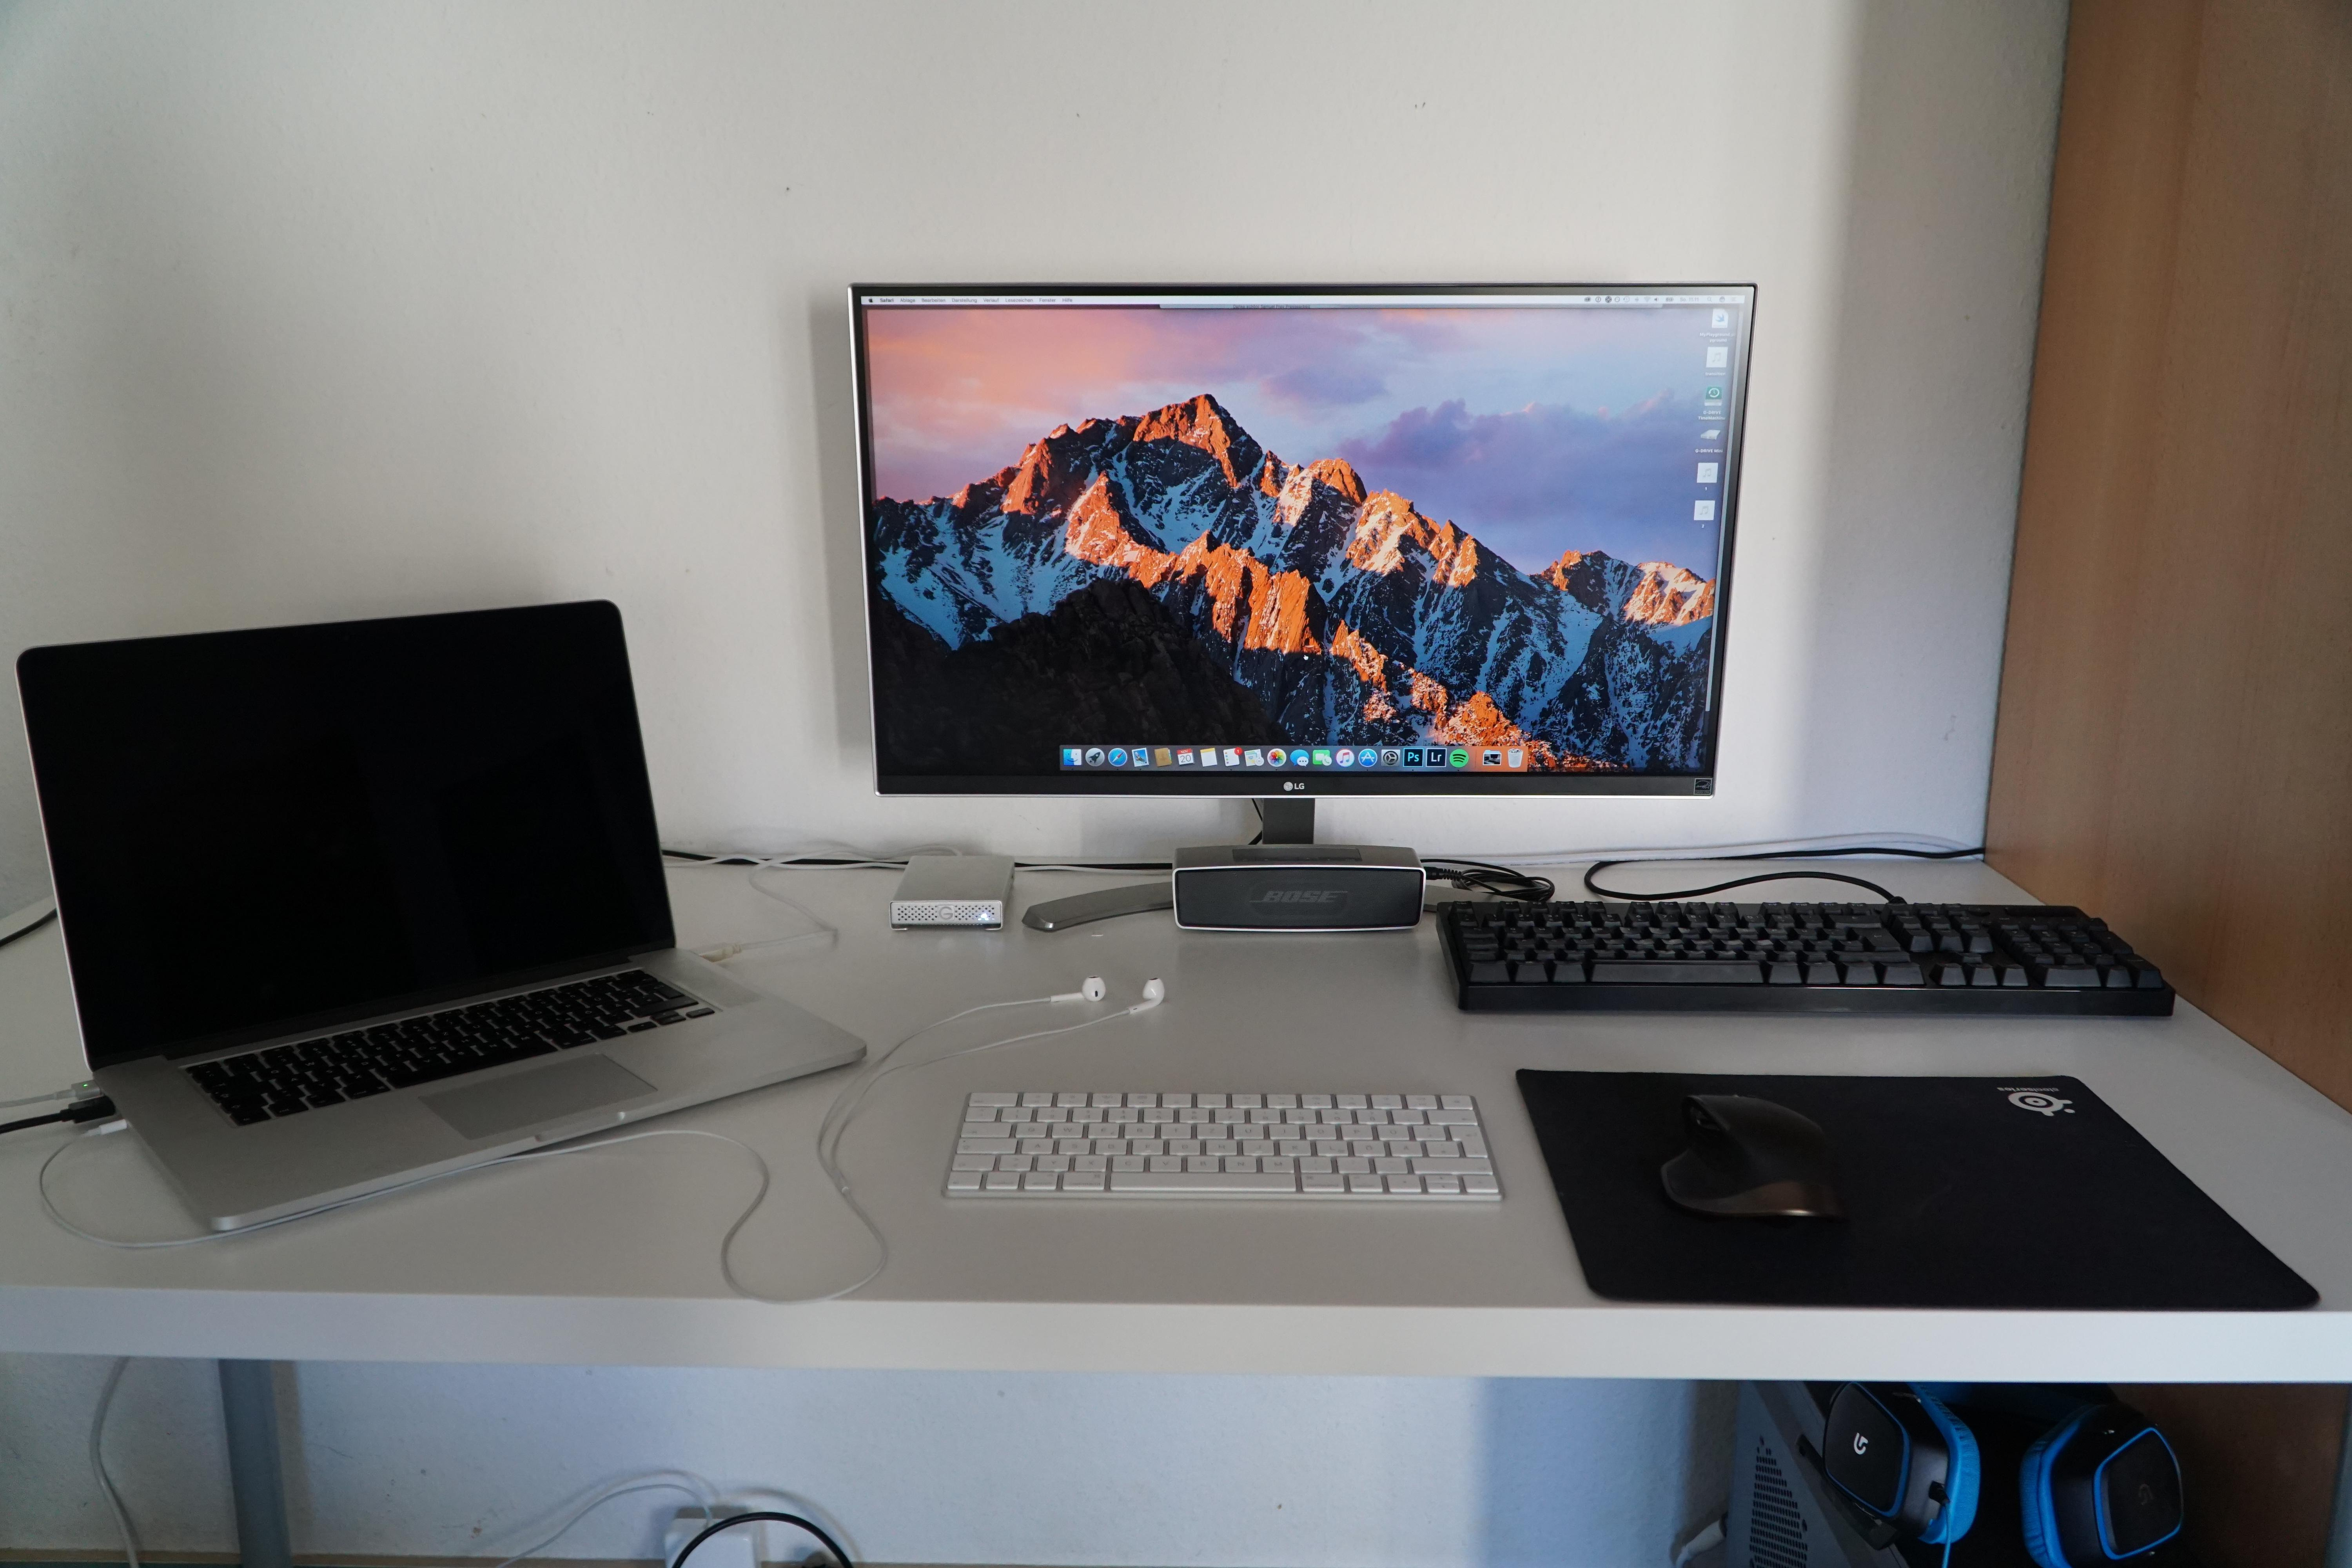Desk (Generic): (0, 856, 2352, 1568)
Desktop (Generic): (1722, 1381, 2173, 1568)
Earphones (with Microphone): (906, 968, 1186, 1064)
External Speakers (Generic): (1172, 843, 1428, 933)
Headphones: (1817, 1386, 2189, 1568)
Keyboard (Ergonomic): (1435, 896, 2179, 1012)
Keyboard (Generic): (936, 1088, 1507, 1213)
Laptop (OSX): (16, 597, 872, 1234)
Monitor (Landscape): (845, 275, 1760, 935)
Mouse (Gaming): (1656, 1088, 1852, 1225)
Mousepad (Gaming): (1517, 1071, 2329, 1318)
